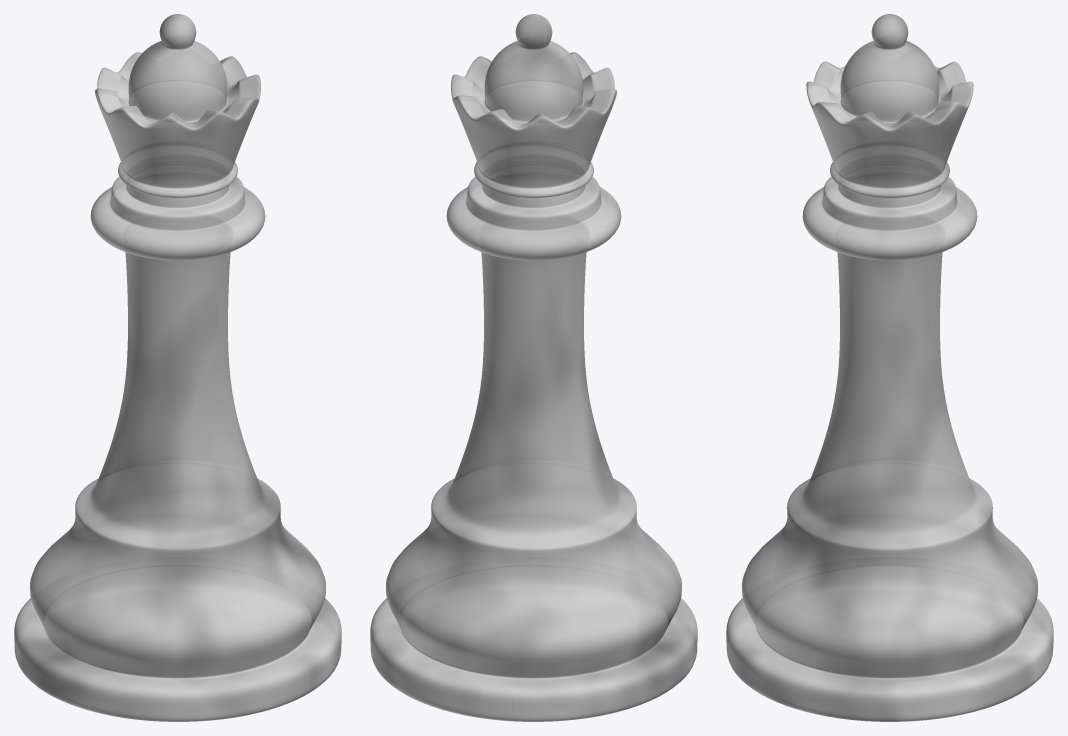
File: reina_regular.glb
3 views of the same model, side by side, from view 1: azimuth 30°, elevation 25°; view 2: azimuth 150°, elevation 25°; view 3: azimuth 270°, elevation 25° (orthographic).
Parts seen in each view (by area): view 1: QUEEN; view 2: QUEEN; view 3: QUEEN.
Boxes of the visible parts, left/top/right/bottom form: QUEEN: left=14, top=14, right=341, bottom=721; QUEEN: left=370, top=14, right=697, bottom=721; QUEEN: left=726, top=14, right=1053, bottom=721.
Size of the model in its own units: 0.045 by 0.0971 by 0.045.
1 material, 1 textured.
